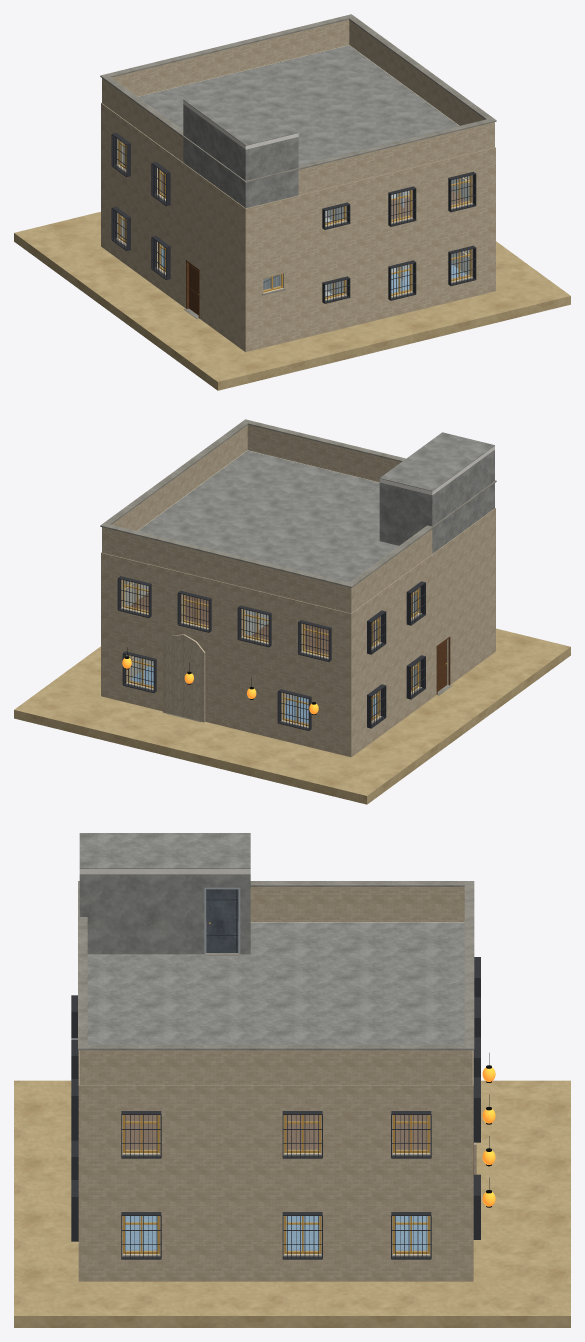
File: b_moroccan_riad.gltf
3 renders of one model, top to bottom at view 1: azimuth 30°, elevation 25°; view 2: azimuth 150°, elevation 25°; view 3: azimuth 270°, elevation 25°, orthographic. The views are drawn at different scales.
Visible parts, largest first — view 1: S_moroccan_riad; view 2: S_moroccan_riad; view 3: S_moroccan_riad, D_moroccan_riad_PH_W0_Door0.
Boxes of the visible parts, x1,y1,x2,y2 form: S_moroccan_riad: [14, 14, 570, 390]; S_moroccan_riad: [14, 419, 570, 804]; S_moroccan_riad: [14, 833, 570, 1327]; D_moroccan_riad_PH_W0_Door0: [206, 889, 238, 952].
Bounding box in the file's own units: 17 × 9.9 × 17.
Materials: 22 (14 with a texture image).
